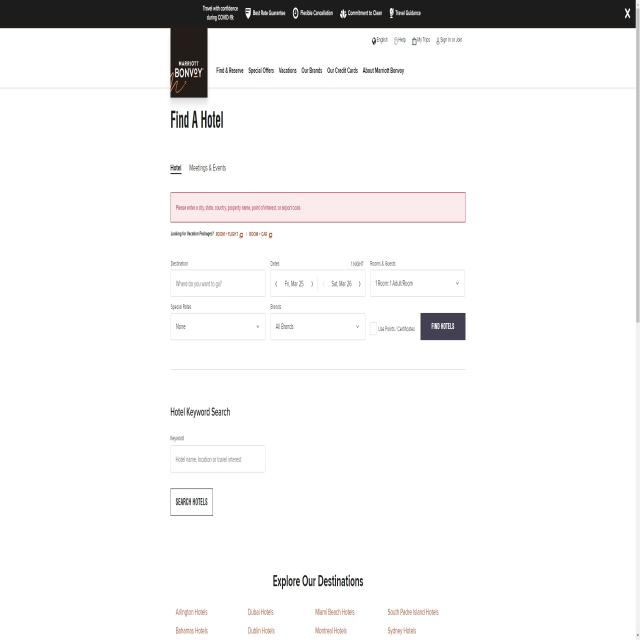menu-bar: (372, 29, 463, 52)
search: (168, 446, 264, 474)
tab-bar: (212, 58, 412, 87), (166, 157, 234, 181)
